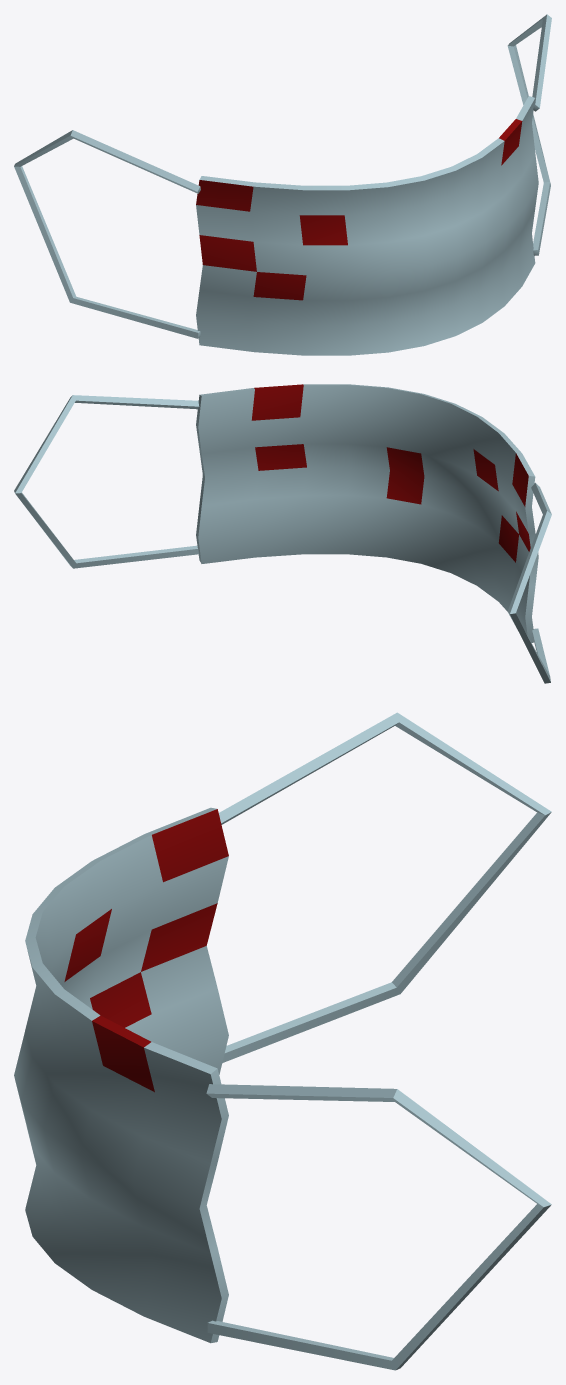
The model's file is mask_surgical.glb.
The picture shows the model from 3 angles, top to bottom: view 1: azimuth 30°, elevation 25°; view 2: azimuth 150°, elevation 25°; view 3: azimuth 270°, elevation 25°; orthographic projection. The views are drawn at different scales.
Parts seen in each view (by area): view 1: mask_surgical; view 2: mask_surgical; view 3: mask_surgical.
Part boxes in pixels (x1,y1,x2,y2): mask_surgical: (14, 14, 551, 355); mask_surgical: (14, 384, 551, 683); mask_surgical: (14, 712, 551, 1370).
Size of the model in its own units: 0.254 by 0.093 by 0.145.
